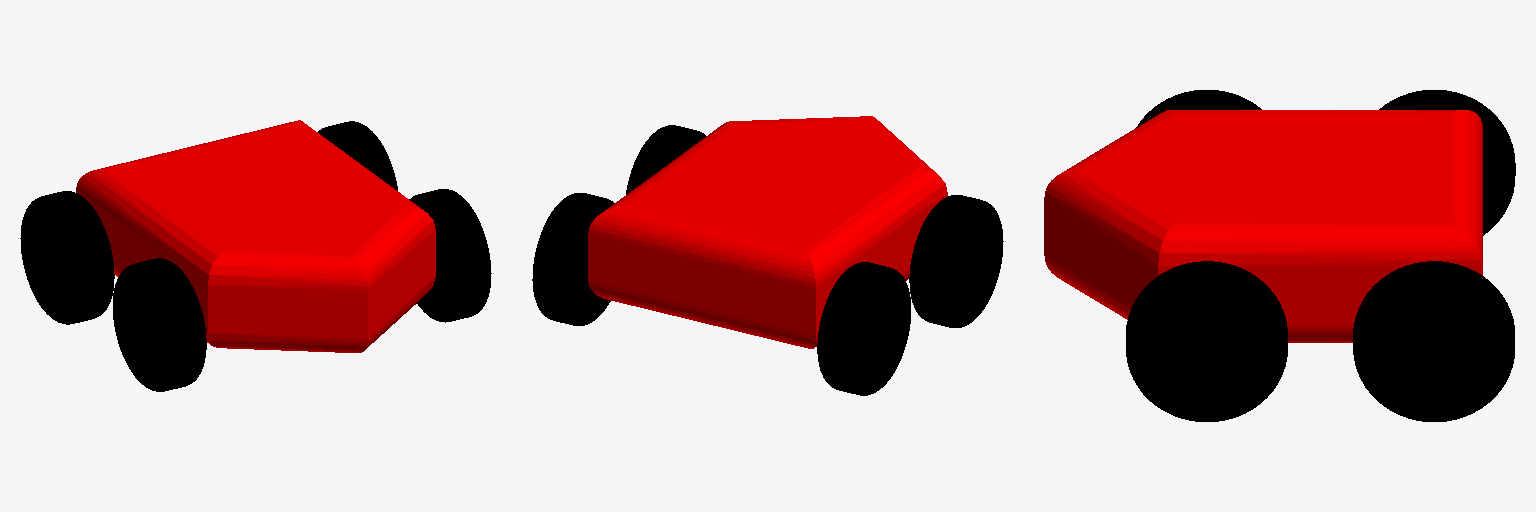
robot.urdf — robot_prueba_1:
<?xml version="1.0" encoding="utf-8"?>
<!-- This URDF was automatically created by SolidWorks to URDF Exporter! Originally created by [author] ([email redacted]) 
     Commit Version: 1.6.0-1-g15f4949  Build Version: 1.6.7594.29634
     For more information, please see http://wiki.ros.org/sw_urdf_exporter -->
<robot
  name="robot_prueba_1">
  <link
    name="base_link">
    <inertial>
      <origin
        xyz="-0.012475 -0.0070341 0.14417"
        rpy="0 0 0" />
      <mass
        value="0.45576" />
      <inertia
        ixx="0.00058942"
        ixy="-1.8006E-09"
        ixz="-1.0323E-09"
        iyy="0.00087806"
        iyz="-2.9185E-07"
        izz="0.00040358" />
    </inertial>
    <visual>
      <origin
        xyz="0 0 0"
        rpy="0 0 0" />
      <geometry>
        <mesh
          filename="package://robot_prueba_1/meshes/base_link.STL" />
      </geometry>
      <material
        name="">
        <color
          rgba="1 0 0 1" />
      </material>
    </visual>
    <collision>
      <origin
        xyz="0 0 0"
        rpy="0 0 0" />
      <geometry>
        <mesh
          filename="package://robot_prueba_1/meshes/base_link.STL" />
      </geometry>
    </collision>
  </link>
  <link
    name="wheel_1">
    <inertial>
      <origin
        xyz="0.00742343520002757 -1.38777878078145E-17 -5.55111512312578E-17"
        rpy="0 0 0" />
      <mass
        value="0.0278392236677135" />
      <inertia
        ixx="8.73797889568867E-06"
        ixy="6.52409166031564E-23"
        ixz="7.48515615271212E-23"
        iyy="4.855923813547E-06"
        iyz="-6.35274710440725E-22"
        izz="4.85592381354699E-06" />
    </inertial>
    <visual>
      <origin
        xyz="0 0 0"
        rpy="0 0 0" />
      <geometry>
        <mesh
          filename="package://robot_prueba_1/meshes/wheel_1.STL" />
      </geometry>
      <material
        name="">
        <color
          rgba="0 0 0 1" />
      </material>
    </visual>
    <collision>
      <origin
        xyz="0 0 0"
        rpy="0 0 0" />
      <geometry>
        <mesh
          filename="package://robot_prueba_1/meshes/wheel_1.STL" />
      </geometry>
    </collision>
  </link>
  <joint
    name="joint_wheel_1"
    type="continuous">
    <origin
      xyz="-0.067475 -0.17 -0.016964"
      rpy="1.8227 0 3.1416" />
    <parent
      link="base_link" />
    <child
      link="wheel_1" />
    <axis
      xyz="1 0 0" />
  </joint>
  <link
    name="wheel_2">
    <inertial>
      <origin
        xyz="0.00742343520002757 8.32667268468867E-17 -1.38777878078145E-17"
        rpy="0 0 0" />
      <mass
        value="0.0278392236677135" />
      <inertia
        ixx="8.73797889568868E-06"
        ixy="1.20957800499272E-22"
        ixz="1.0546310936981E-22"
        iyy="4.855923813547E-06"
        iyz="4.2351647362715E-22"
        izz="4.855923813547E-06" />
    </inertial>
    <visual>
      <origin
        xyz="0 0 0"
        rpy="0 0 0" />
      <geometry>
        <mesh
          filename="package://robot_prueba_1/meshes/wheel_2.STL" />
      </geometry>
      <material
        name="">
        <color
          rgba="0 0 0 1" />
      </material>
    </visual>
    <collision>
      <origin
        xyz="0 0 0"
        rpy="0 0 0" />
      <geometry>
        <mesh
          filename="package://robot_prueba_1/meshes/wheel_2.STL" />
      </geometry>
    </collision>
  </link>
  <joint
    name="joint_wheel_2"
    type="continuous">
    <origin
      xyz="0.042525 -0.17 -0.016964"
      rpy="0.49848 0 0" />
    <parent
      link="base_link" />
    <child
      link="wheel_2" />
    <axis
      xyz="1 0 0" />
  </joint>
  <link
    name="wheel_3">
    <inertial>
      <origin
        xyz="0.00742343520002757 0 0"
        rpy="0 0 0" />
      <mass
        value="0.0278392236677135" />
      <inertia
        ixx="8.73797889568867E-06"
        ixy="7.1208467720329E-23"
        ixz="-1.21942835150546E-23"
        iyy="4.855923813547E-06"
        iyz="-8.470329472543E-22"
        izz="4.85592381354699E-06" />
    </inertial>
    <visual>
      <origin
        xyz="0 0 0"
        rpy="0 0 0" />
      <geometry>
        <mesh
          filename="package://robot_prueba_1/meshes/wheel_3.STL" />
      </geometry>
      <material
        name="">
        <color
          rgba="0 0 0 1" />
      </material>
    </visual>
    <collision>
      <origin
        xyz="0 0 0"
        rpy="0 0 0" />
      <geometry>
        <mesh
          filename="package://robot_prueba_1/meshes/wheel_3.STL" />
      </geometry>
    </collision>
  </link>
  <joint
    name="joint_wheel_3"
    type="continuous">
    <origin
      xyz="-0.067475 -0.1 -0.016964"
      rpy="1.6785 0 3.1416" />
    <parent
      link="base_link" />
    <child
      link="wheel_3" />
    <axis
      xyz="1 0 0" />
  </joint>
  <link
    name="wheel_4">
    <inertial>
      <origin
        xyz="0.00742343520002757 0 0"
        rpy="0 0 0" />
      <mass
        value="0.0278392236677135" />
      <inertia
        ixx="8.73797889568866E-06"
        ixy="1.48536760717649E-22"
        ixz="-1.36509373770758E-22"
        iyy="4.85592381354699E-06"
        iyz="8.470329472543E-22"
        izz="4.85592381354699E-06" />
    </inertial>
    <visual>
      <origin
        xyz="0 0 0"
        rpy="0 0 0" />
      <geometry>
        <mesh
          filename="package://robot_prueba_1/meshes/wheel_4.STL" />
      </geometry>
      <material
        name="">
        <color
          rgba="0 0 0 1" />
      </material>
    </visual>
    <collision>
      <origin
        xyz="0 0 0"
        rpy="0 0 0" />
      <geometry>
        <mesh
          filename="package://robot_prueba_1/meshes/wheel_4.STL" />
      </geometry>
    </collision>
  </link>
  <joint
    name="joint_wheel_4"
    type="continuous">
    <origin
      xyz="0.042525 -0.1 -0.016964"
      rpy="0.49394 0 0" />
    <parent
      link="base_link" />
    <child
      link="wheel_4" />
    <axis
      xyz="1 0 0" />
  </joint>
</robot>

--- What the picture shows (computed from the rendered views, not written in the file) ---
Views: 3 orthographic renders of the robot side by side, from view 1: azimuth 30°, elevation 25°; view 2: azimuth 150°, elevation 25°; view 3: azimuth 270°, elevation 25°.
Model robot_prueba_1 with 5 links and 4 joints (4 continuous), rooted at base_link, posed every joint at zero.
Visible links, largest first — view 1: base_link, wheel_1, wheel_3, wheel_2, wheel_4; view 2: base_link, wheel_3, wheel_1, wheel_4, wheel_2; view 3: base_link, wheel_2, wheel_4, wheel_3, wheel_1.
Boxes of the visible links, box(x1,y1,x2,y2) form: base_link: box(76, 120, 435, 352); wheel_1: box(113, 258, 206, 391); wheel_3: box(20, 191, 114, 324); wheel_2: box(409, 189, 491, 322); wheel_4: box(318, 121, 397, 190); base_link: box(588, 116, 947, 348); wheel_3: box(817, 262, 910, 395); wheel_1: box(909, 195, 1003, 327); wheel_4: box(532, 193, 614, 325); wheel_2: box(626, 125, 705, 194); base_link: box(1044, 110, 1482, 342); wheel_2: box(1126, 261, 1287, 421); wheel_4: box(1353, 261, 1514, 421); wheel_3: box(1379, 90, 1515, 235); wheel_1: box(1136, 90, 1261, 127).
Bounding box of the posed robot: 0.14 × 0.145 × 0.055 m (x, y, z).
Meshes: 5 distinct files referenced, 5 mesh visuals loaded (5 binary STL).